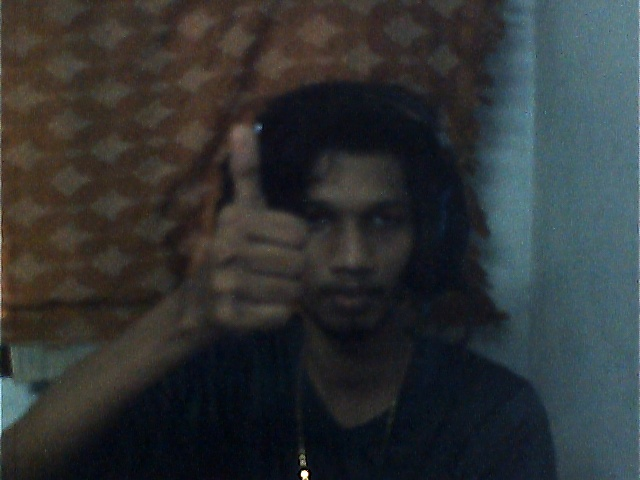ThumbsUp: (193, 124, 304, 329)
